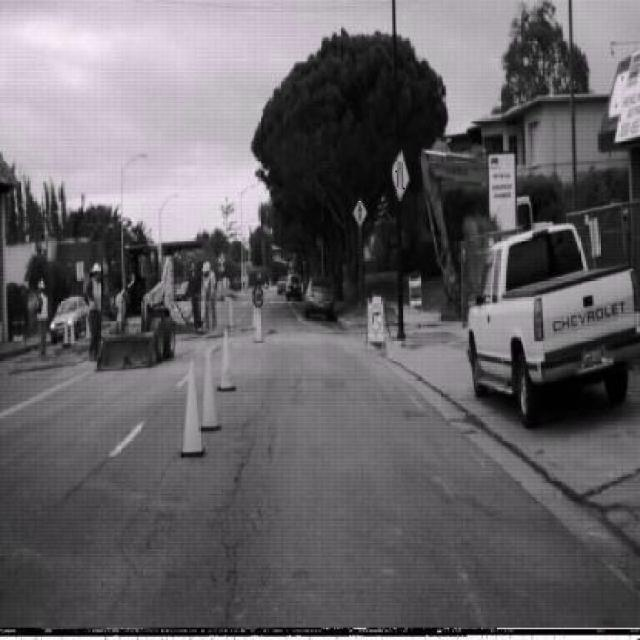laneEnds: (391, 148, 409, 197)
pedestrianCrossing: (352, 197, 368, 228)
